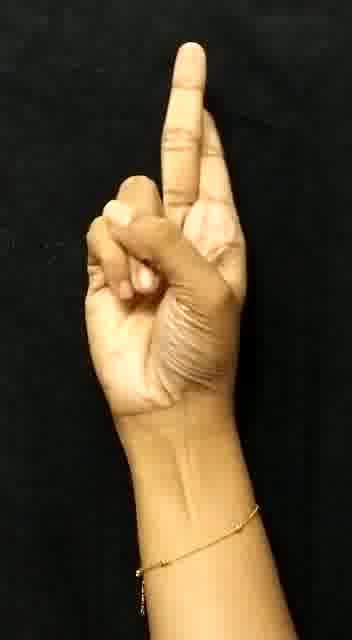kartarimukh: (79, 36, 259, 438)
